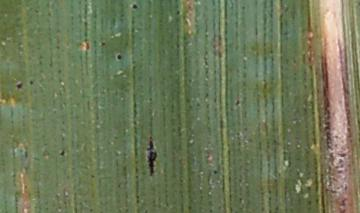tarspot: (144, 135, 158, 178), (14, 80, 23, 89), (115, 53, 123, 61), (58, 149, 66, 157), (211, 168, 219, 176), (233, 98, 240, 107), (130, 3, 138, 10), (99, 40, 107, 47), (314, 197, 321, 205), (23, 148, 28, 159), (306, 199, 313, 206), (22, 183, 29, 190), (27, 79, 34, 85), (174, 9, 181, 15), (134, 198, 141, 204), (87, 207, 94, 213), (147, 96, 153, 103), (134, 193, 140, 199), (305, 185, 311, 191), (90, 173, 94, 178)
